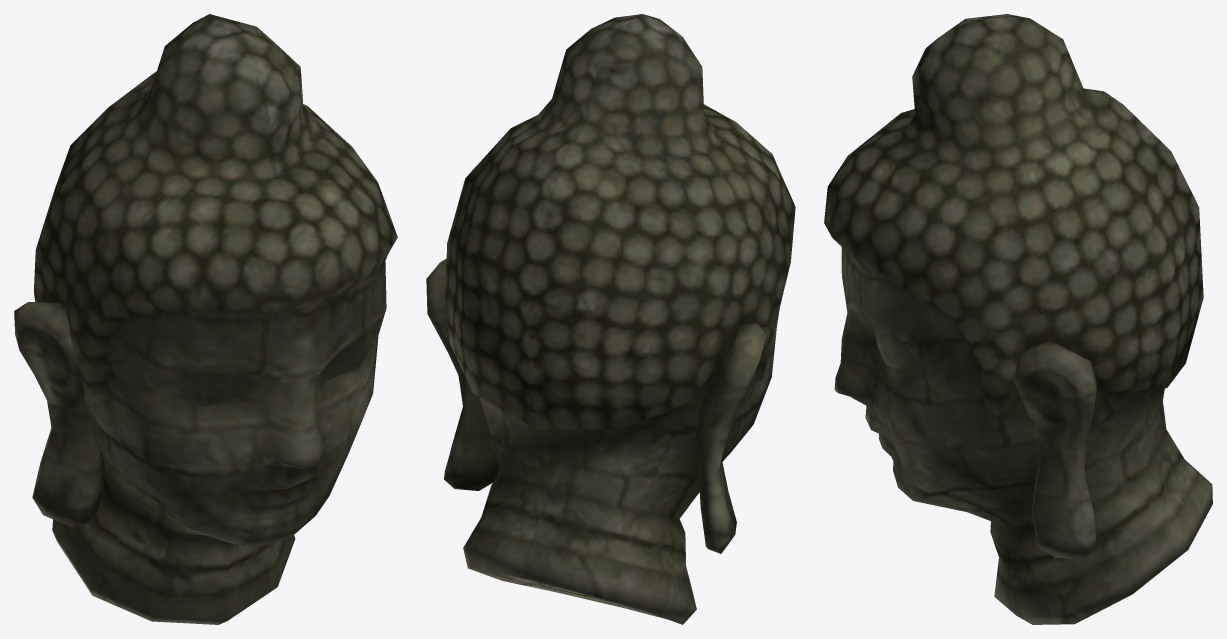
Rendered from environment_common_diaoxiang_004_a.FBX.
3 renders of one model, left to right at view 1: azimuth 30°, elevation 25°; view 2: azimuth 150°, elevation 25°; view 3: azimuth 270°, elevation 25°, orthographic. The views are drawn at different scales.
Parts seen in each view (by area): view 1: environment_common_diaoxiang_004_a; view 2: environment_common_diaoxiang_004_a; view 3: environment_common_diaoxiang_004_a.
Boxes of the visible parts, box(x1,y1,x2,y2) form: environment_common_diaoxiang_004_a: box(14, 14, 397, 624); environment_common_diaoxiang_004_a: box(426, 14, 795, 624); environment_common_diaoxiang_004_a: box(824, 14, 1212, 624).
Size of the model in its own units: 261 by 436 by 261.
